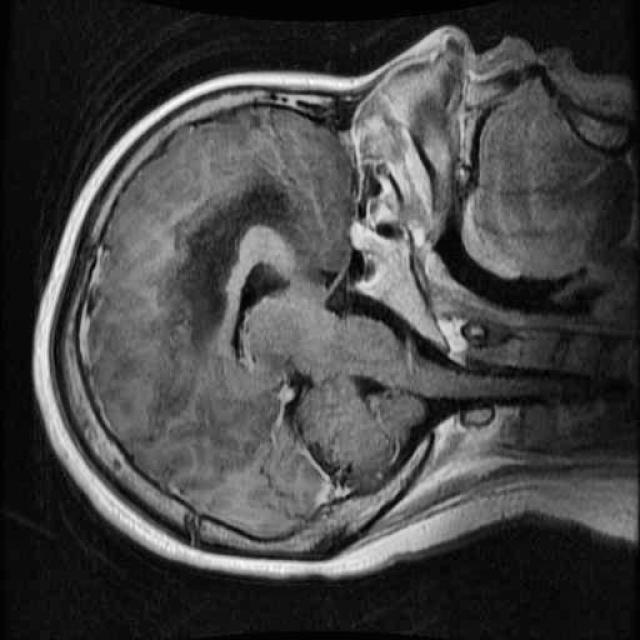Tumor: (160, 155, 309, 364)
